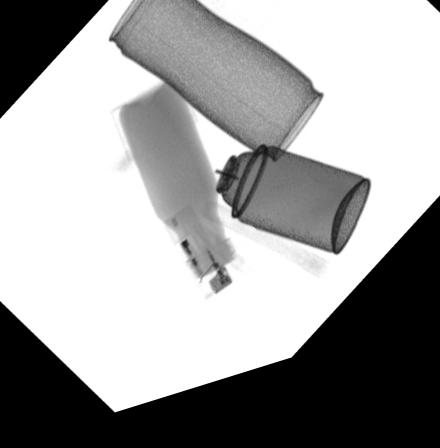Lighter: (162, 213, 234, 313)
Sprayer: (172, 142, 371, 274)
